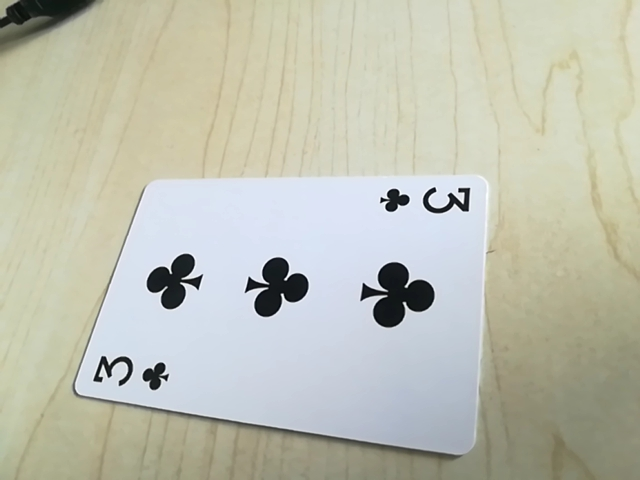mh 3: (82, 348, 177, 397), (375, 181, 475, 221)
